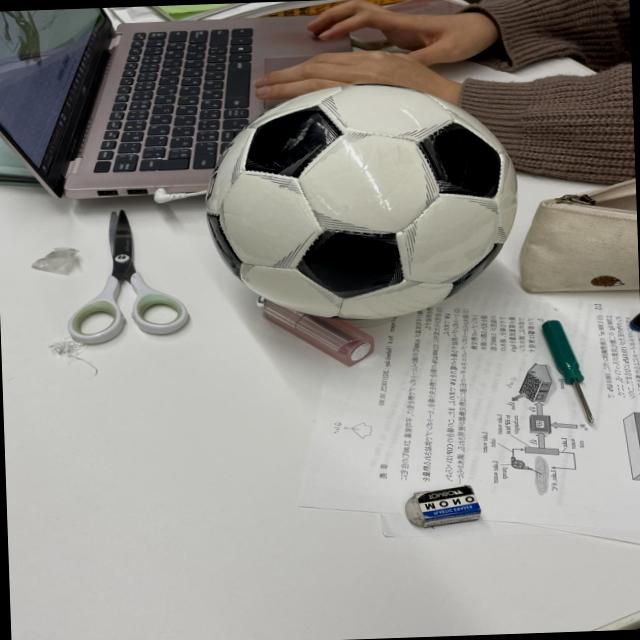Soccer Ball: (205, 79, 522, 327)
